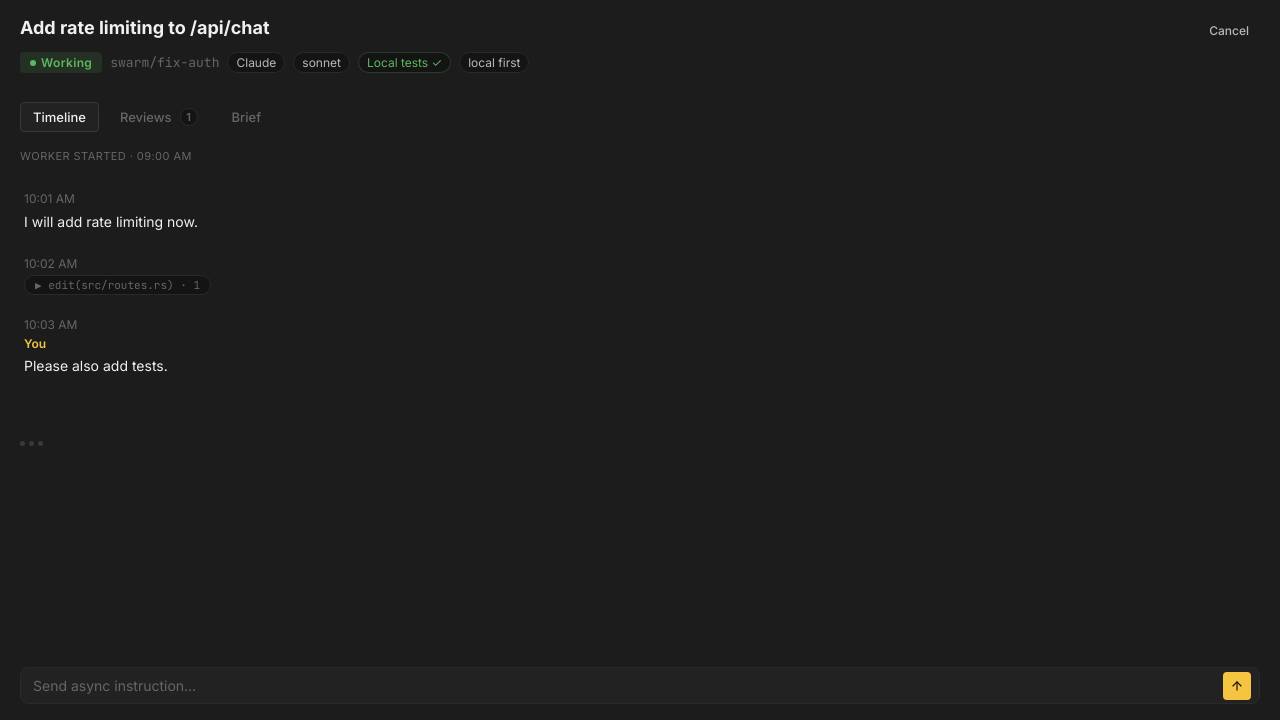
WorkerDetailV2 › switches to Reviews tab on click and shows reviews section
The width and height of the screenshot is (1280, 720).
expect the element with test id "status-badge" is shown: met, box top-left (20, 52), bottom-right (102, 73)
Click the tab "Reviews 1" at (159, 117), box top-left (107, 101), bottom-right (211, 133)
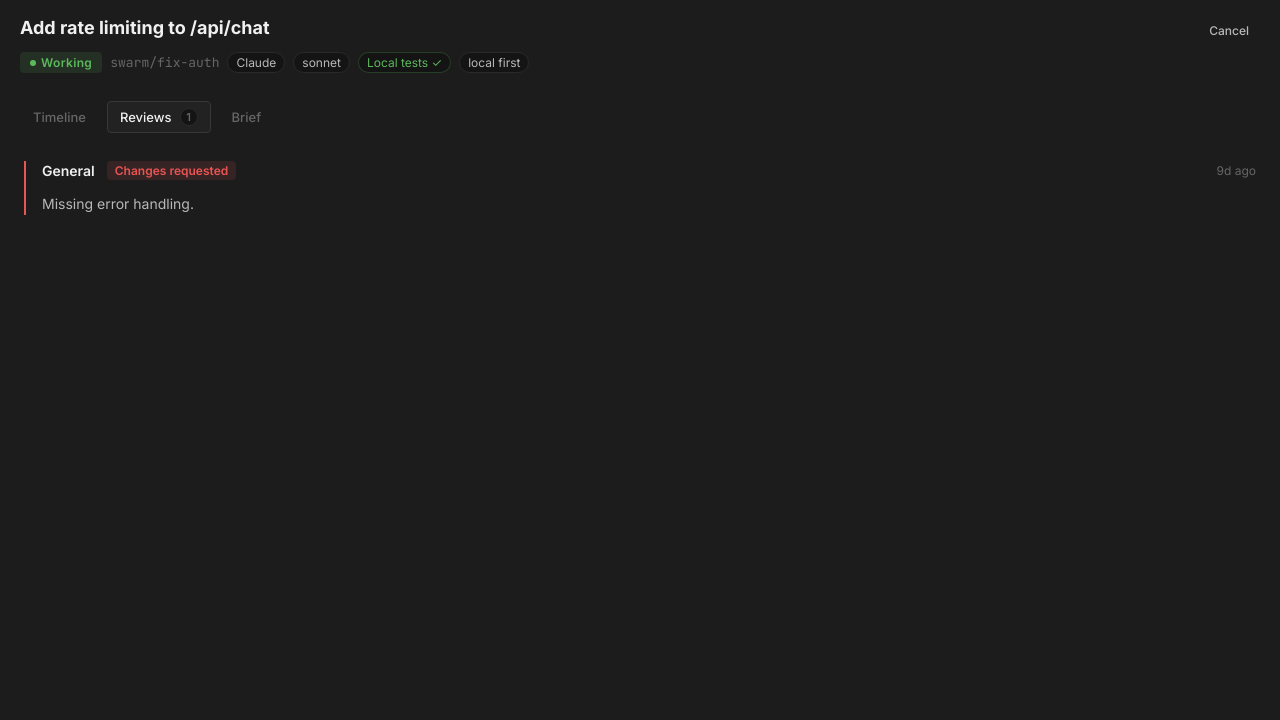
expect the element with test id "reviews-section" is shown: met, box top-left (24, 161), bottom-right (1256, 215)
expect the text "Missing error handling." is shown: met, box top-left (42, 195), bottom-right (194, 212)
